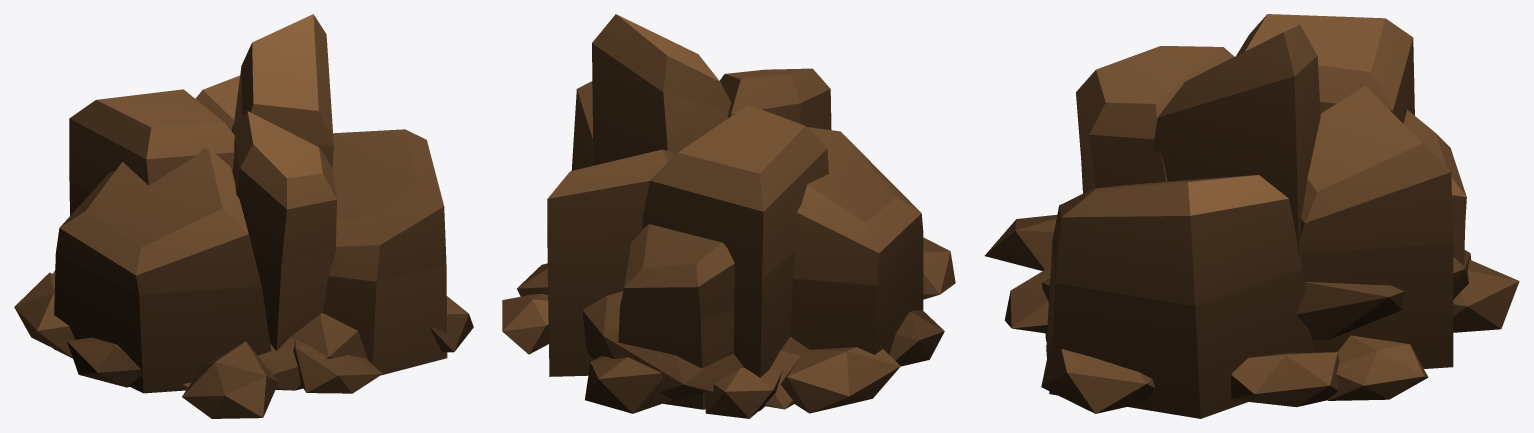
Rendered from big-rock.glb.
3 renders of one model, left to right at view 1: azimuth 30°, elevation 25°; view 2: azimuth 150°, elevation 25°; view 3: azimuth 270°, elevation 25°, orthographic. The views are drawn at different scales.
Parts seen in each view (by area): view 1: big-rock; view 2: big-rock; view 3: big-rock.
Part boxes in pixels (left/top/right/bottom): big-rock: left=14, top=14, right=473, bottom=418; big-rock: left=502, top=14, right=955, bottom=418; big-rock: left=984, top=14, right=1519, bottom=418.
Size of the model in its own units: 1.92 by 1.47 by 2.1.
